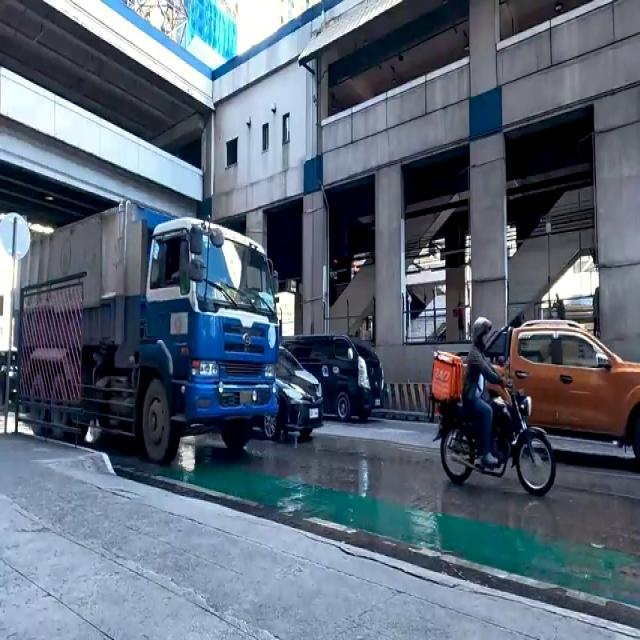car: (436, 318, 640, 462), (284, 327, 385, 418), (255, 343, 322, 445)
motorcycle: (437, 320, 543, 497)
truck: (19, 204, 279, 464)
